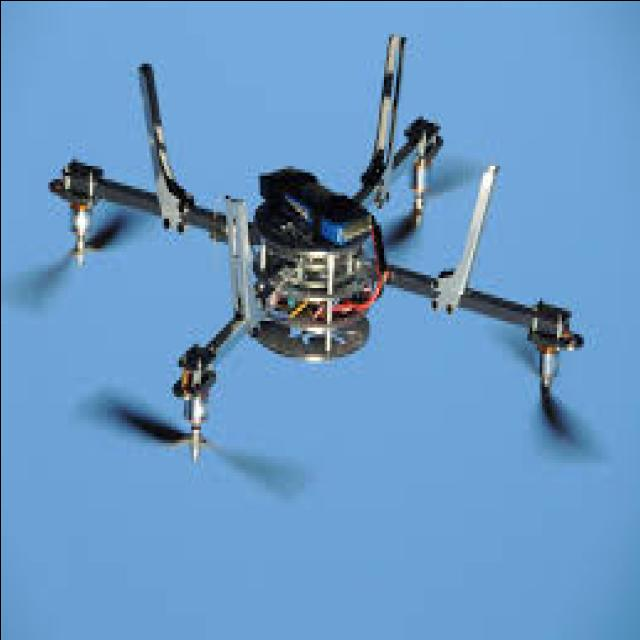drone: (7, 29, 606, 477)
